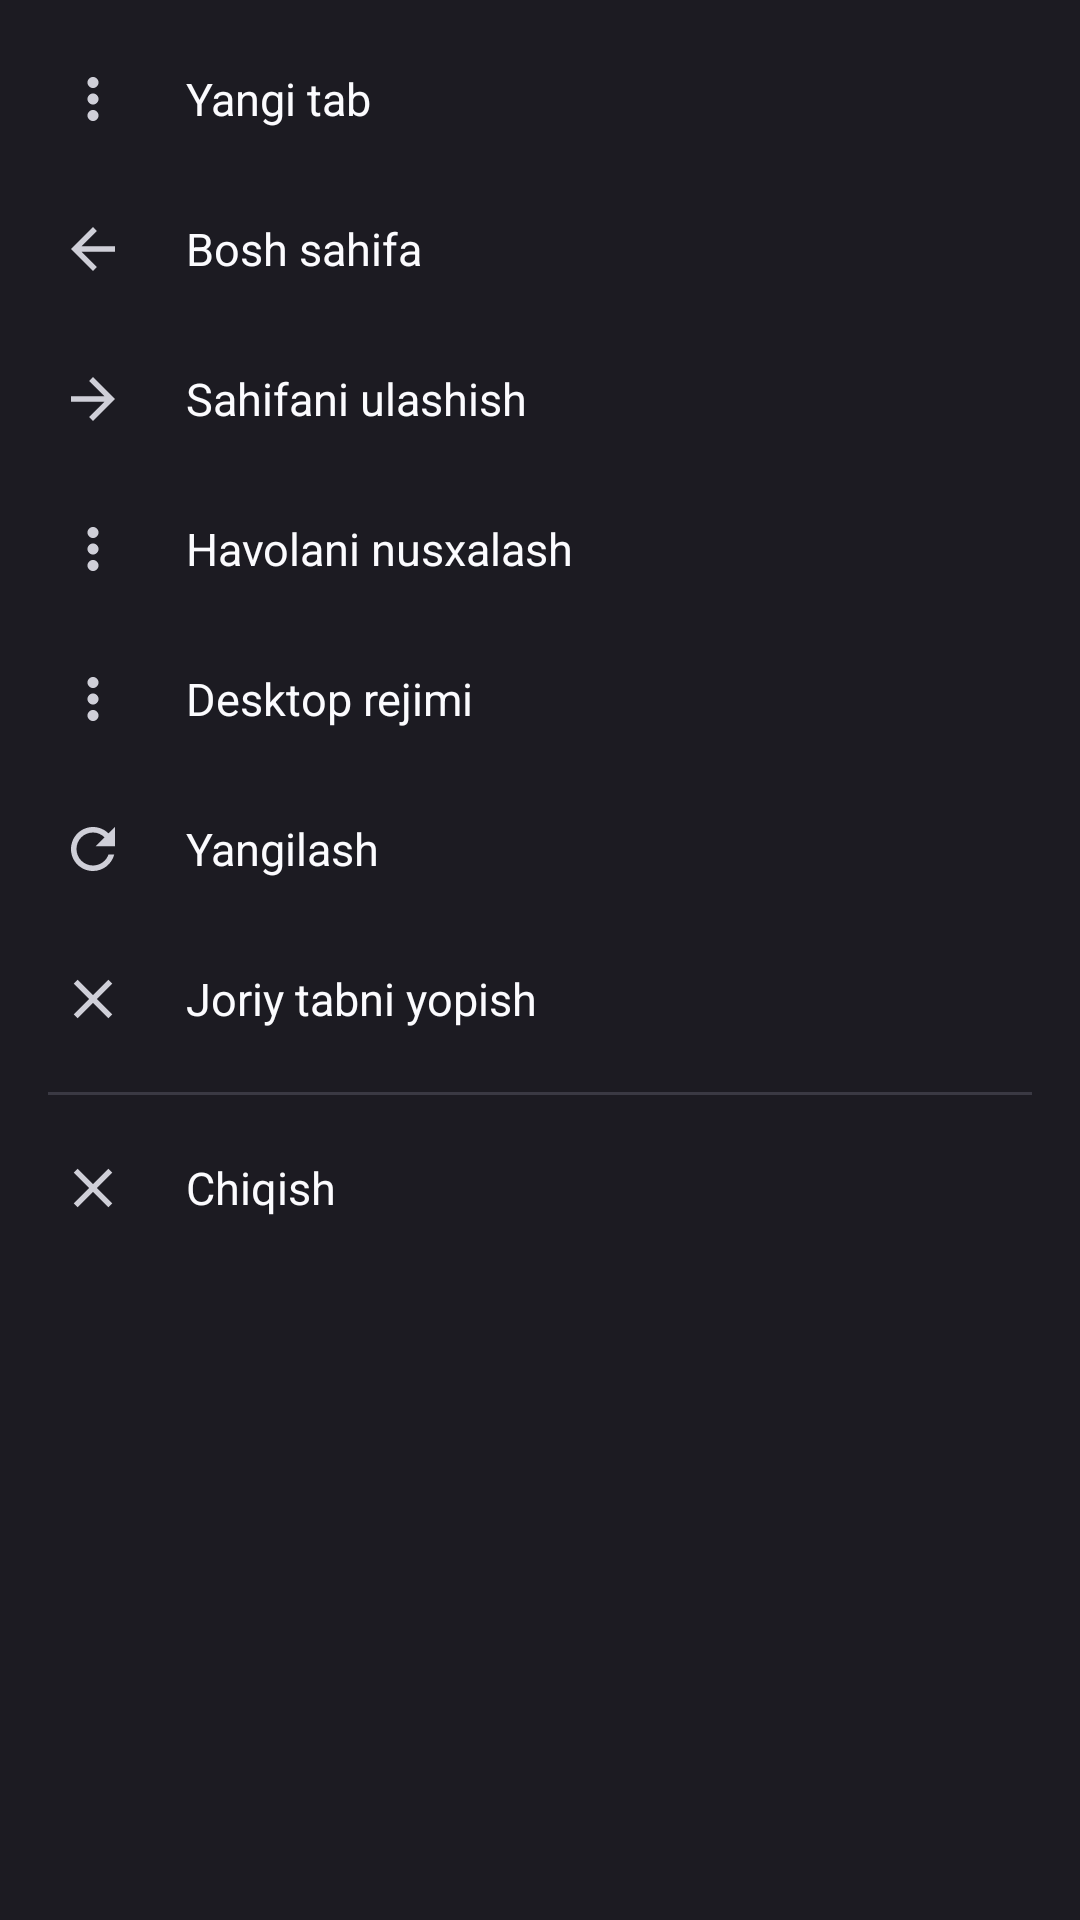

Screen size 1080x1920. Icon name, then its box in pixels as (x1, y1, x2, y2):
back: (71, 227, 115, 271)
close: (74, 980, 112, 1018), (74, 1169, 112, 1207)
forward: (71, 377, 115, 421)
more: (87, 77, 99, 121), (87, 527, 99, 571), (87, 677, 99, 721)
reload: (71, 827, 115, 871)
